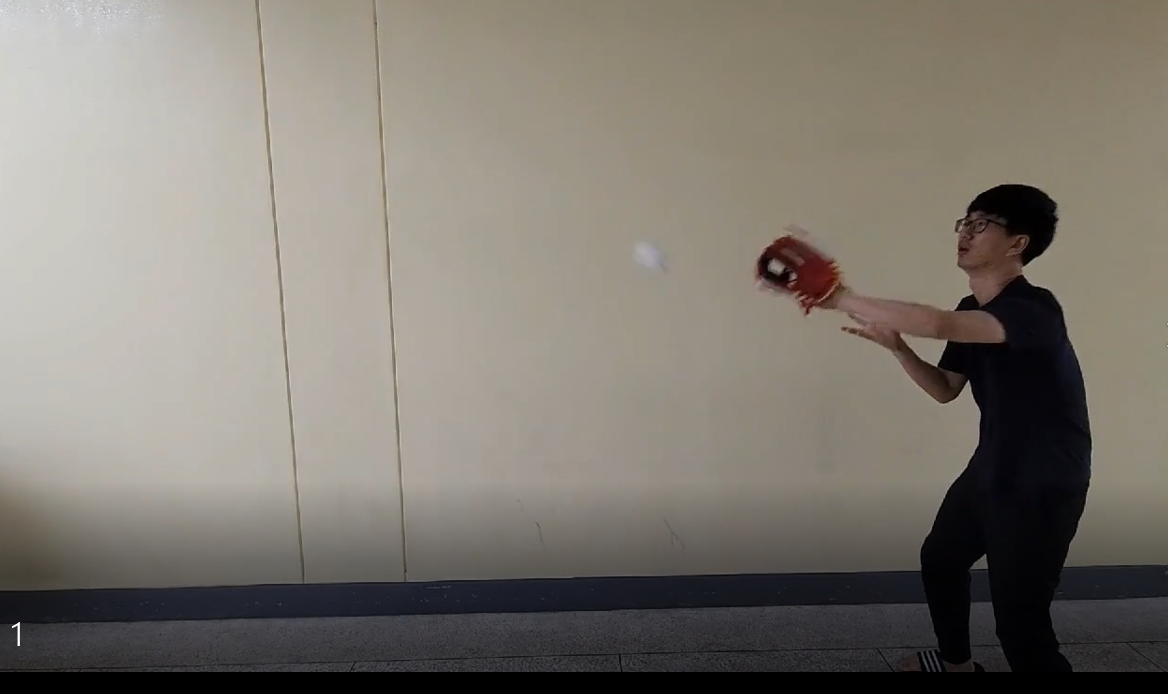ball: (628, 241, 669, 275)
